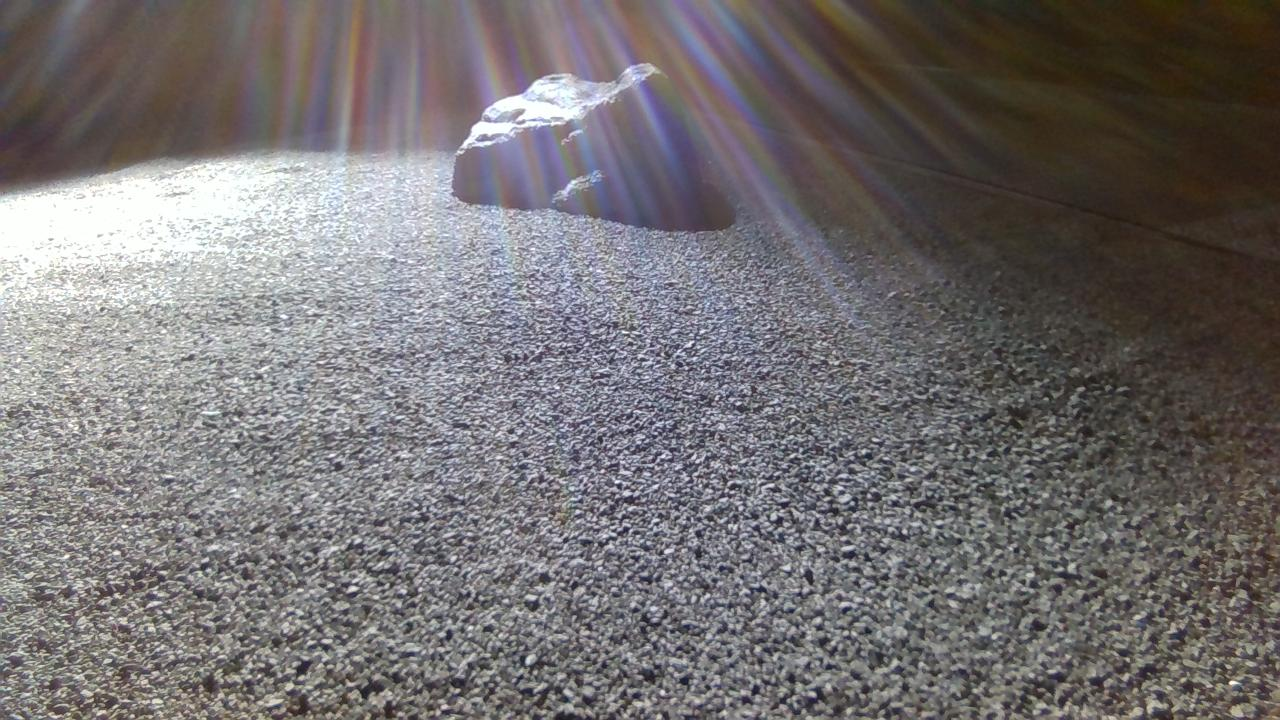rock: (452, 61, 714, 229)
